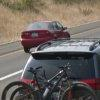Car: (16, 14, 71, 56)
